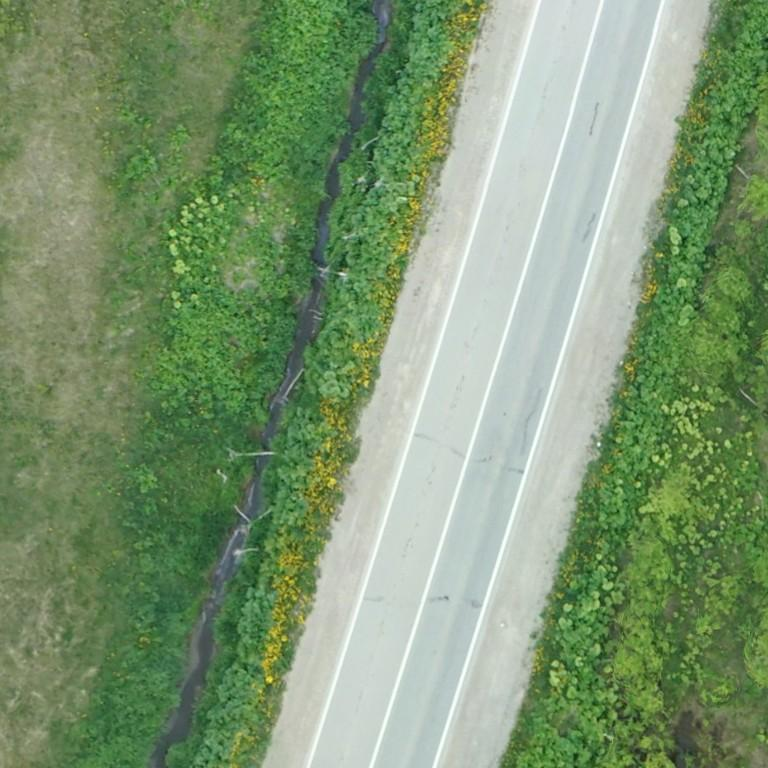hogweed: (190, 410, 317, 767), (343, 0, 455, 276), (337, 276, 380, 337)
